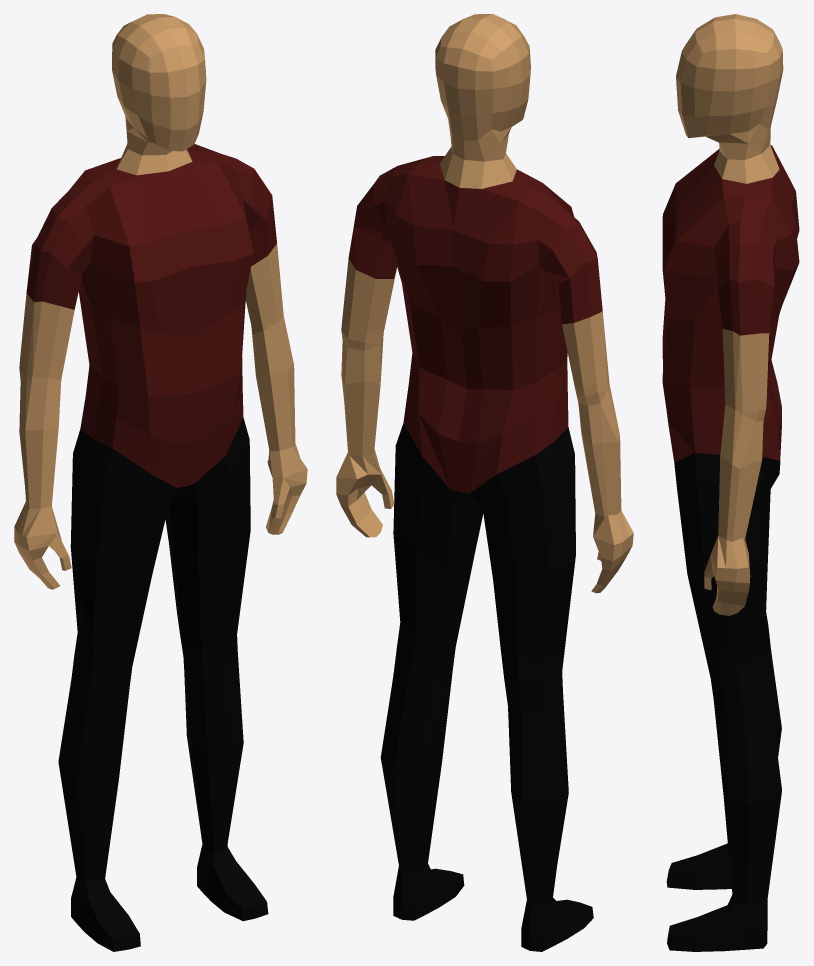
The model's file is man.fbx.
The picture shows the model from 3 angles, left to right: view 1: azimuth 30°, elevation 25°; view 2: azimuth 150°, elevation 25°; view 3: azimuth 270°, elevation 25°; orthographic projection.
Parts seen in each view (by area): view 1: man.001; view 2: man.001; view 3: man.001.
Part boxes in pixels (x1=…): man.001: x1=14, y1=14, x2=307, y2=951; man.001: x1=336, y1=14, x2=633, y2=951; man.001: x1=662, y1=14, x2=799, y2=951.
Size of the model in its own units: 18.43 by 55.9 by 7.76.
